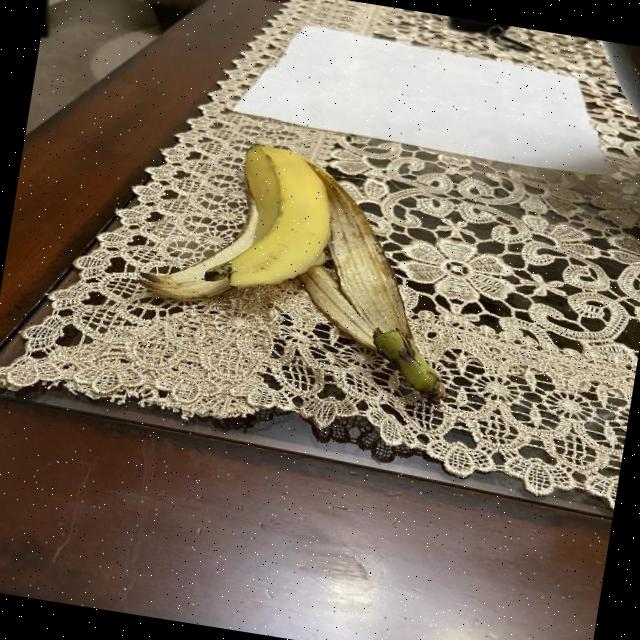banana-peel: (127, 125, 480, 400), (134, 124, 342, 323)
